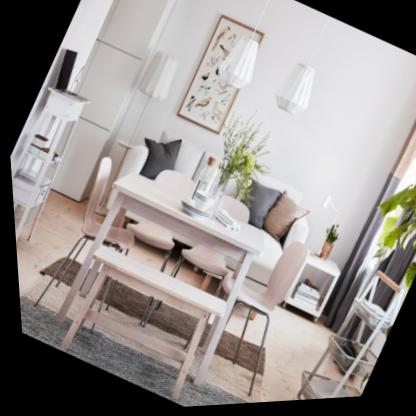Table: (38, 159, 277, 398), (42, 235, 232, 413)
